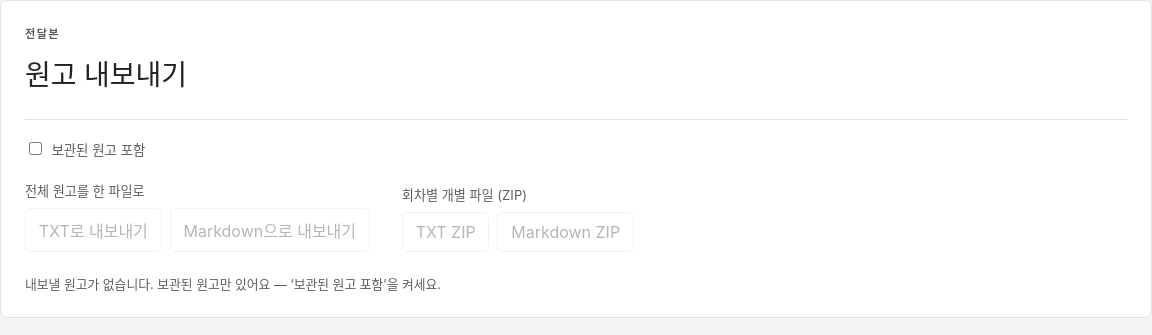
it: ProjectExportPanel › disables export for an archived-only project until archived units are opted in
Expected: the button "TXT로 내보내기" is disabled, [25,208,162,252]
Expected: the button "Markdown ZIP" is disabled, [498,212,634,252]
Note: Opting archived units in re-enables export.
Click the checkbox labelled "보관된 원고 포함": (36, 149) [29,142,42,155]
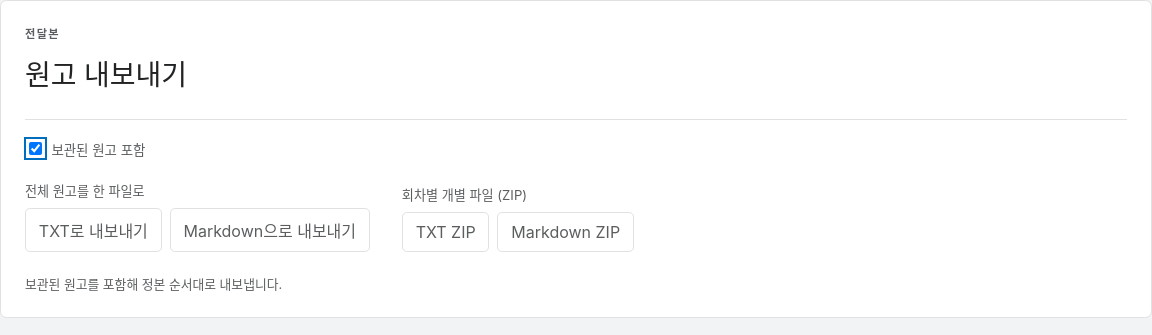
Result: the button "TXT로 내보내기" is enabled at [25,208,162,252]
Result: the button "Markdown ZIP" is enabled at [498,212,634,252]
